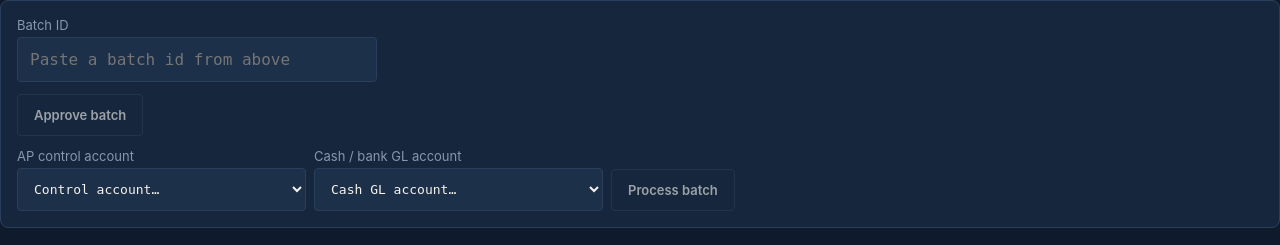
PaymentBatchActions — process › requires both accounts before submitting
In the field labelled "Batch ID": (197, 60) x1=17 y1=37 x2=377 y2=82, type "batch-1"
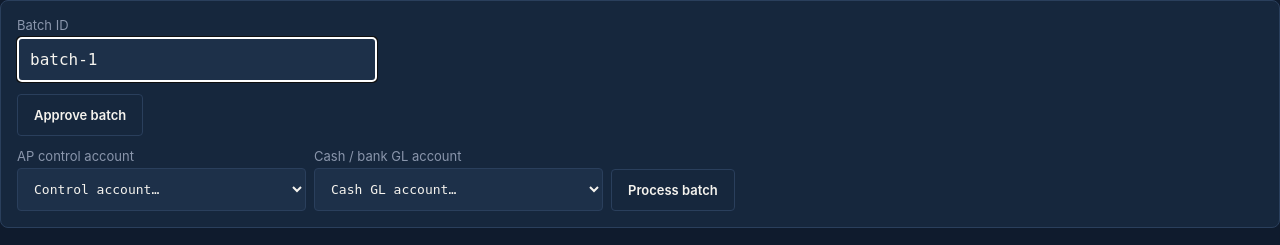
Click the button "Process batch": (673, 190) x1=611 y1=169 x2=735 y2=211
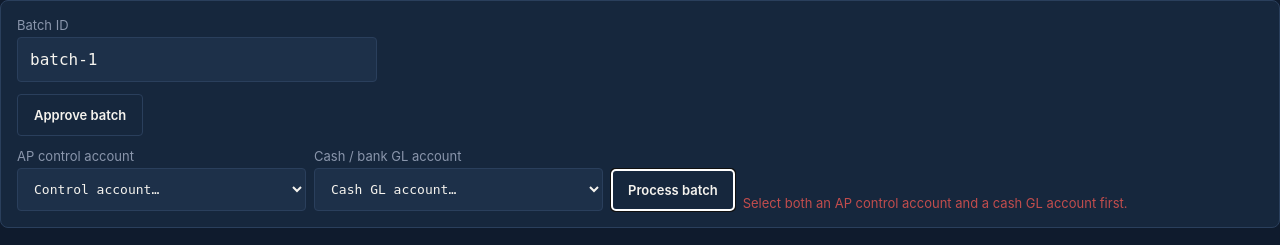
Result: the text "Select both an AP control account and a cash GL account first." is shown at x1=743 y1=195 x2=1128 y2=211
